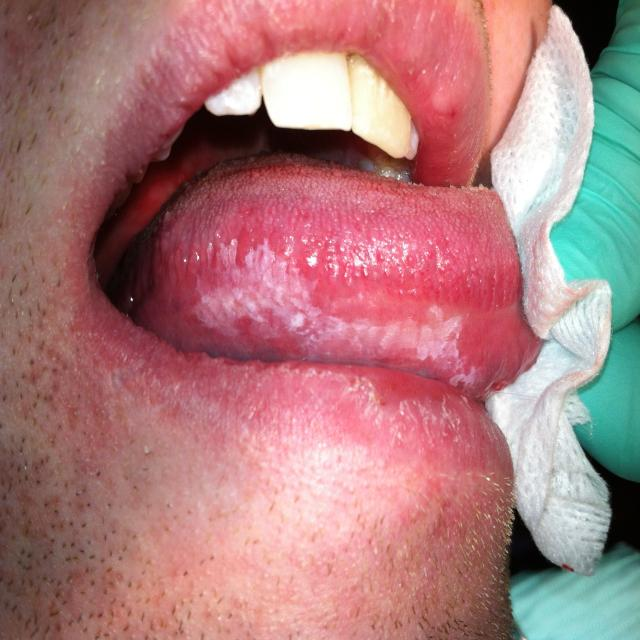left_region: (120, 152, 544, 401)
